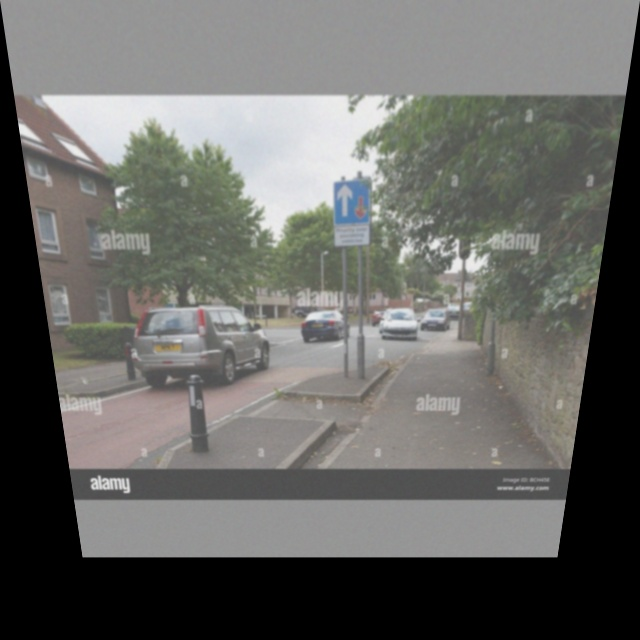Priority_for_Oncoming_Traffic: (333, 179, 373, 224)
